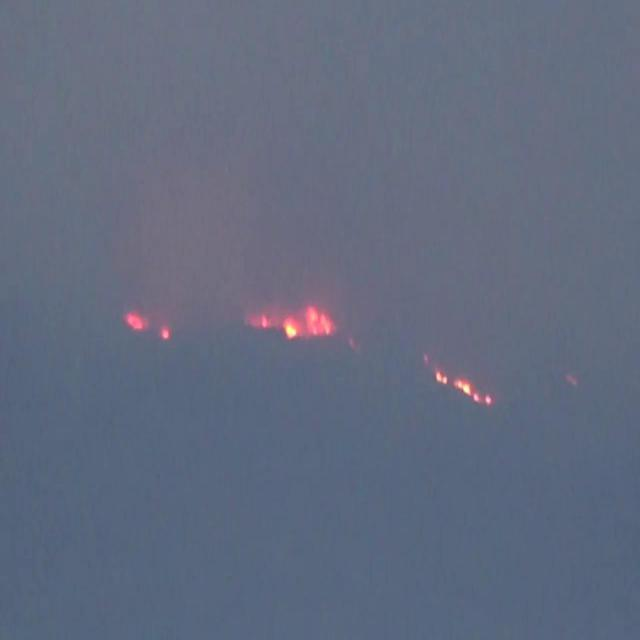Fire: (248, 311, 333, 342), (436, 369, 492, 404), (124, 311, 146, 331), (160, 324, 171, 340)
